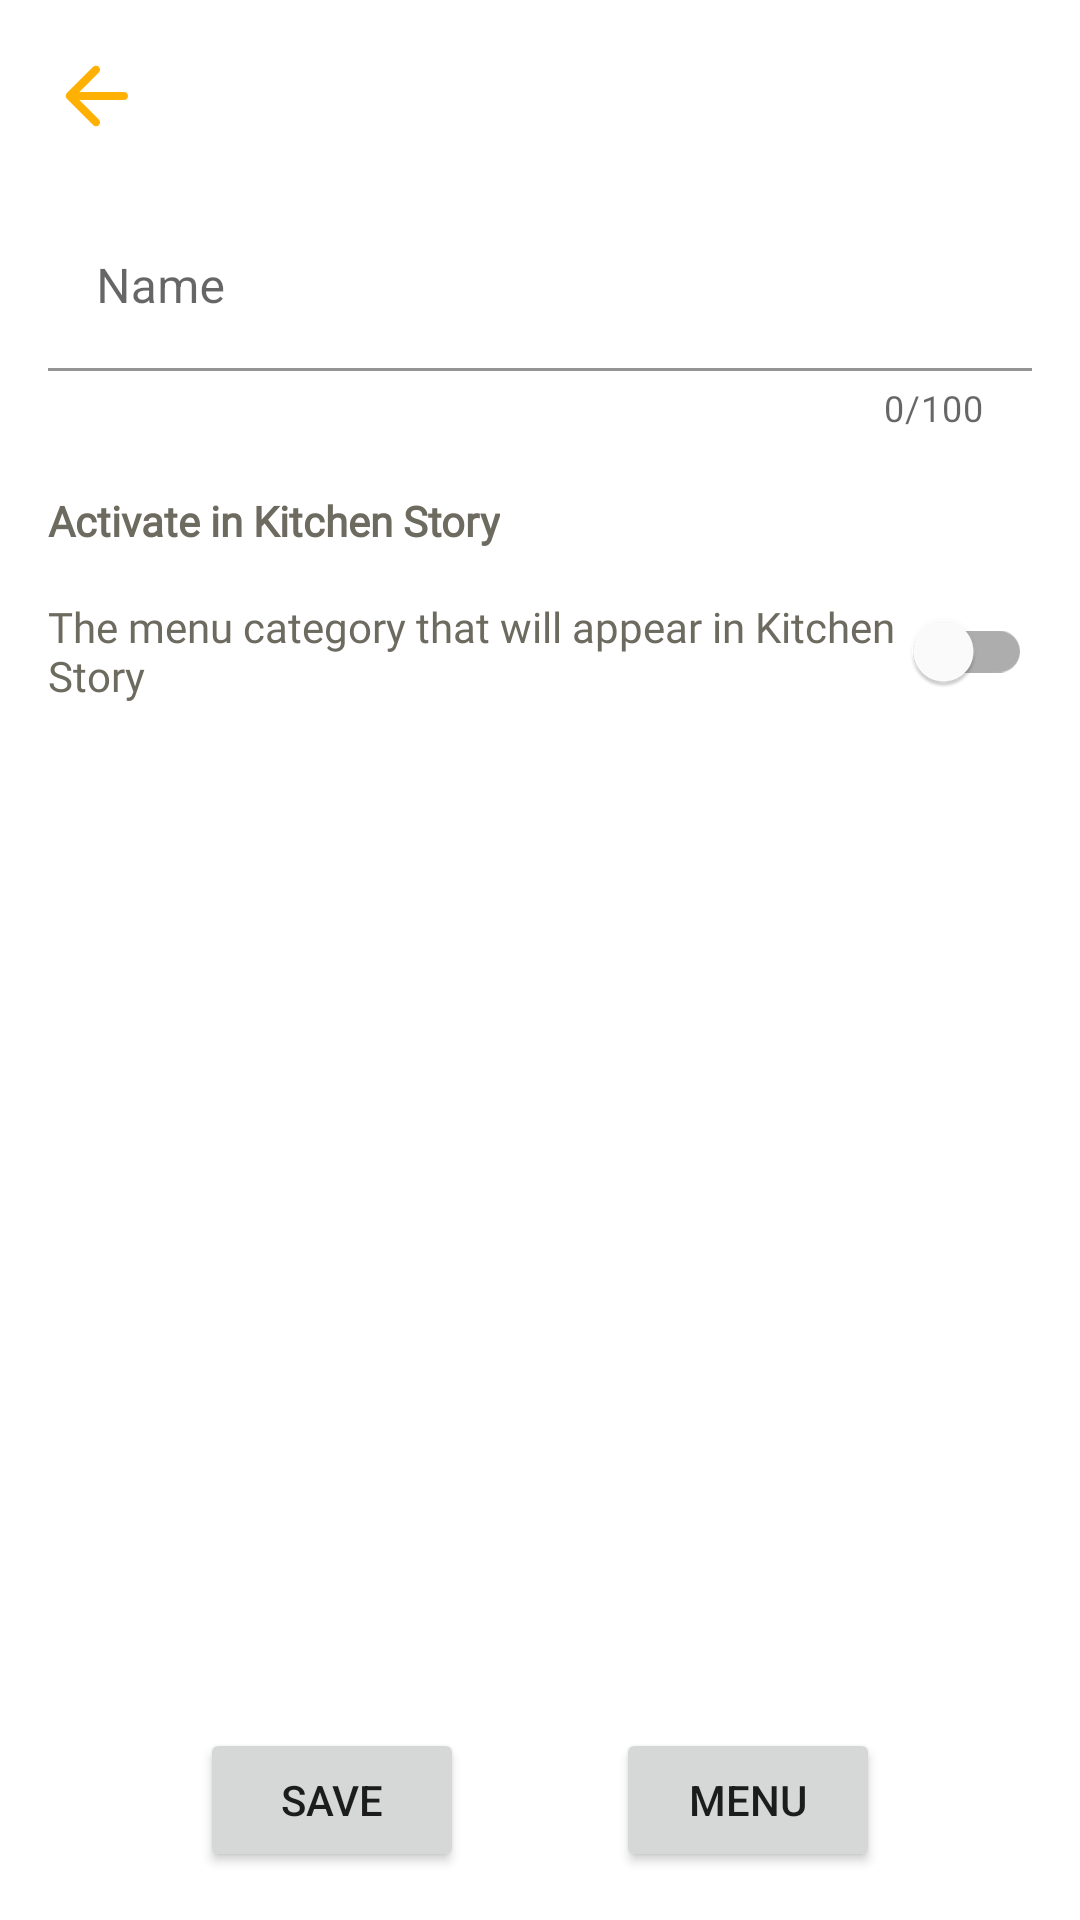

Icons on this 1080px×1920px Android screen, each with its box as (x1, y1, x2, y2):
back: (65, 65, 128, 127)
